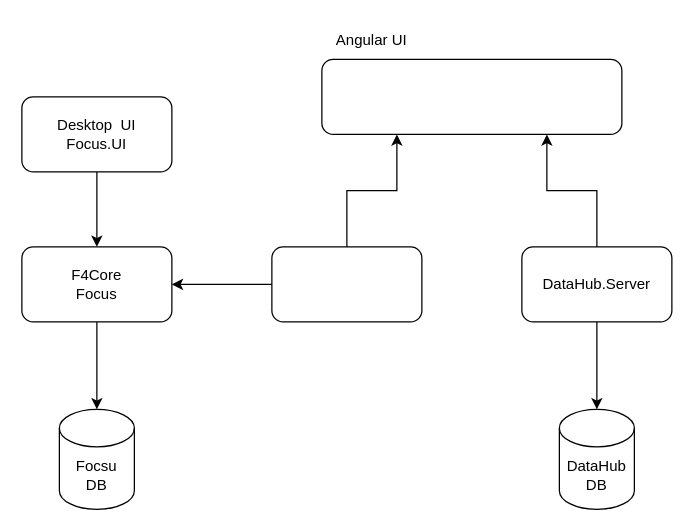
Image size: 694x531. Some labels were removed from this diagram. The box of each missing label's shape, as (x1, y1, x2, y2) in pixels:
DataHub.UI BSM - Focus: (321, 58, 622, 134)
Web.Server: (271, 246, 422, 322)
